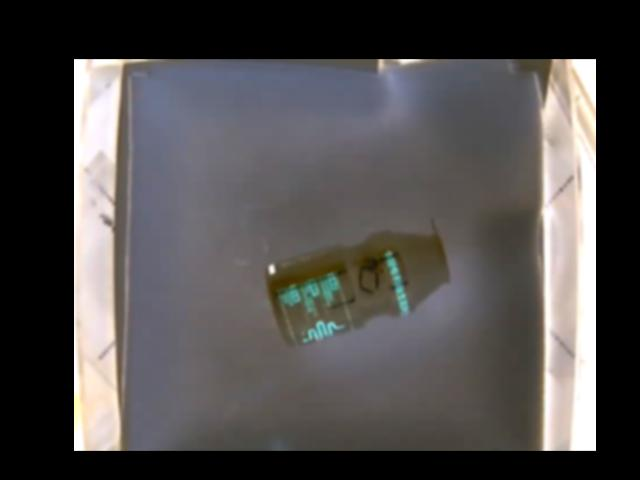Bottle: (264, 228, 454, 348)
